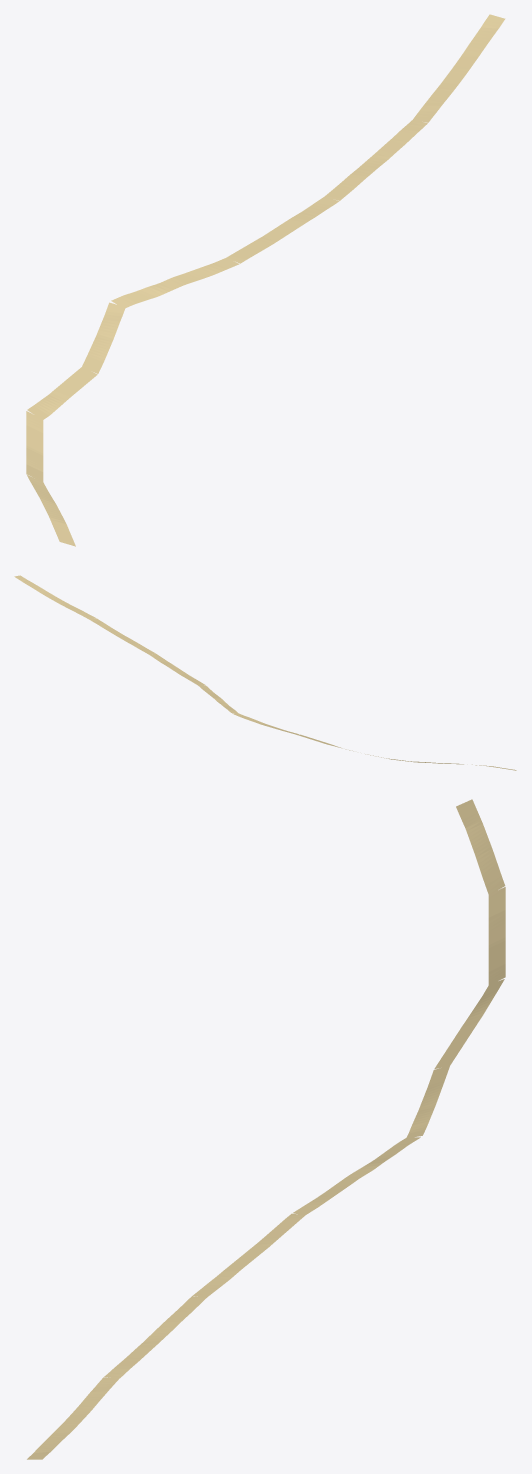
File: Trail_17.glb
The picture shows the model from 3 angles, top to bottom: view 1: azimuth 90°, elevation 25°; view 2: azimuth 150°, elevation 25°; view 3: azimuth 270°, elevation 25°; orthographic projection. The views are drawn at different scales.
Parts seen in each view (by area): view 1: Trail_17; view 2: Trail_17; view 3: Trail_17.
Boxes of the visible parts, x1,y1,x2,y2 form: Trail_17: [26, 14, 505, 546]; Trail_17: [14, 575, 516, 770]; Trail_17: [27, 799, 505, 1459].
Size of the model in its own units: 147 by 9.28 by 50.01.
